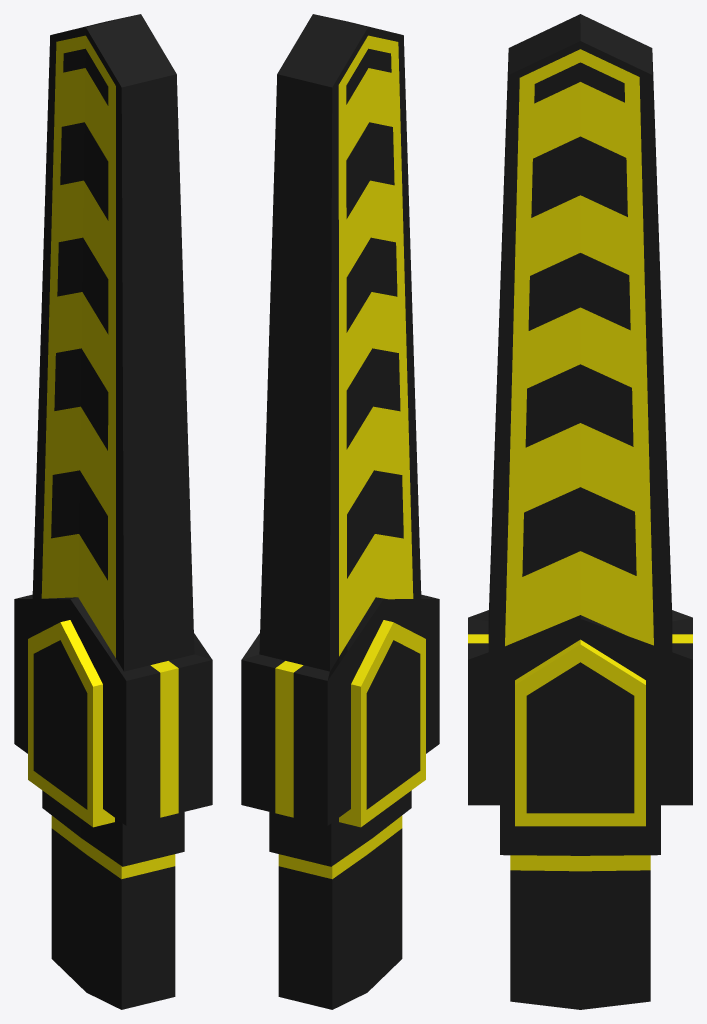
Rendered from metal detector.fbx.
3 views of the same model, side by side, from view 1: azimuth 30°, elevation 25°; view 2: azimuth 150°, elevation 25°; view 3: azimuth 270°, elevation 25° (orthographic).
Visible parts, largest first — view 1: metal detector; view 2: metal detector; view 3: metal detector.
Part boxes in pixels (box(x1,y1,x2,y2)): metal detector: box(14, 14, 212, 1009); metal detector: box(241, 14, 439, 1009); metal detector: box(468, 14, 692, 1009).
Size of the model in its own units: 22.65 by 197 by 41.42.
